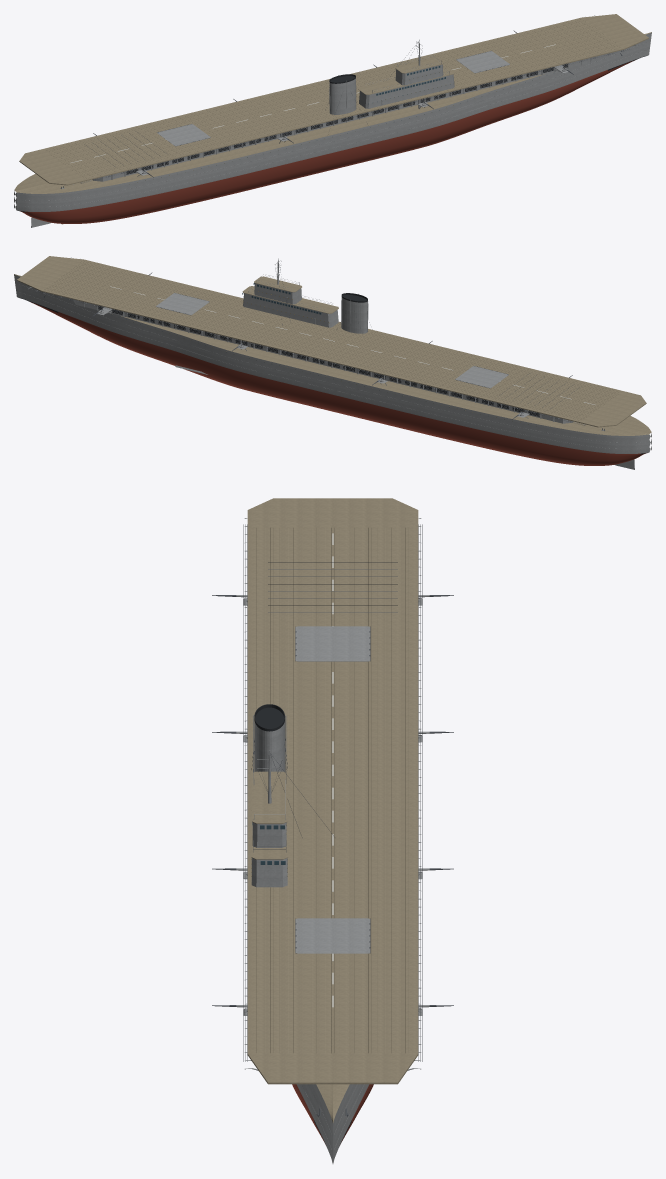
Rendered from ecole_cv31.glb.
3 views of the same model, one above another, from view 1: azimuth 30°, elevation 25°; view 2: azimuth 150°, elevation 25°; view 3: azimuth 270°, elevation 25° (orthographic). The views are drawn at different scales.
Visible parts, largest first — view 1: Liberté carrier; view 2: Liberté carrier; view 3: Liberté carrier.
Part boxes in pixels (bbox=[...]): Liberté carrier: bbox=[14, 14, 651, 227]; Liberté carrier: bbox=[14, 256, 651, 469]; Liberté carrier: bbox=[212, 498, 453, 1163].
Size of the model in its own units: 215 by 35.85 by 35.38.
Materials: 8 (2 with a texture image).
